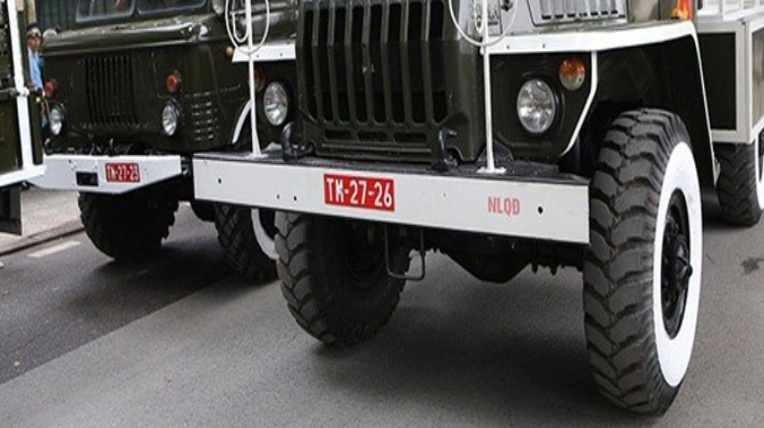plate: (322, 171, 399, 211), (105, 160, 143, 187)
